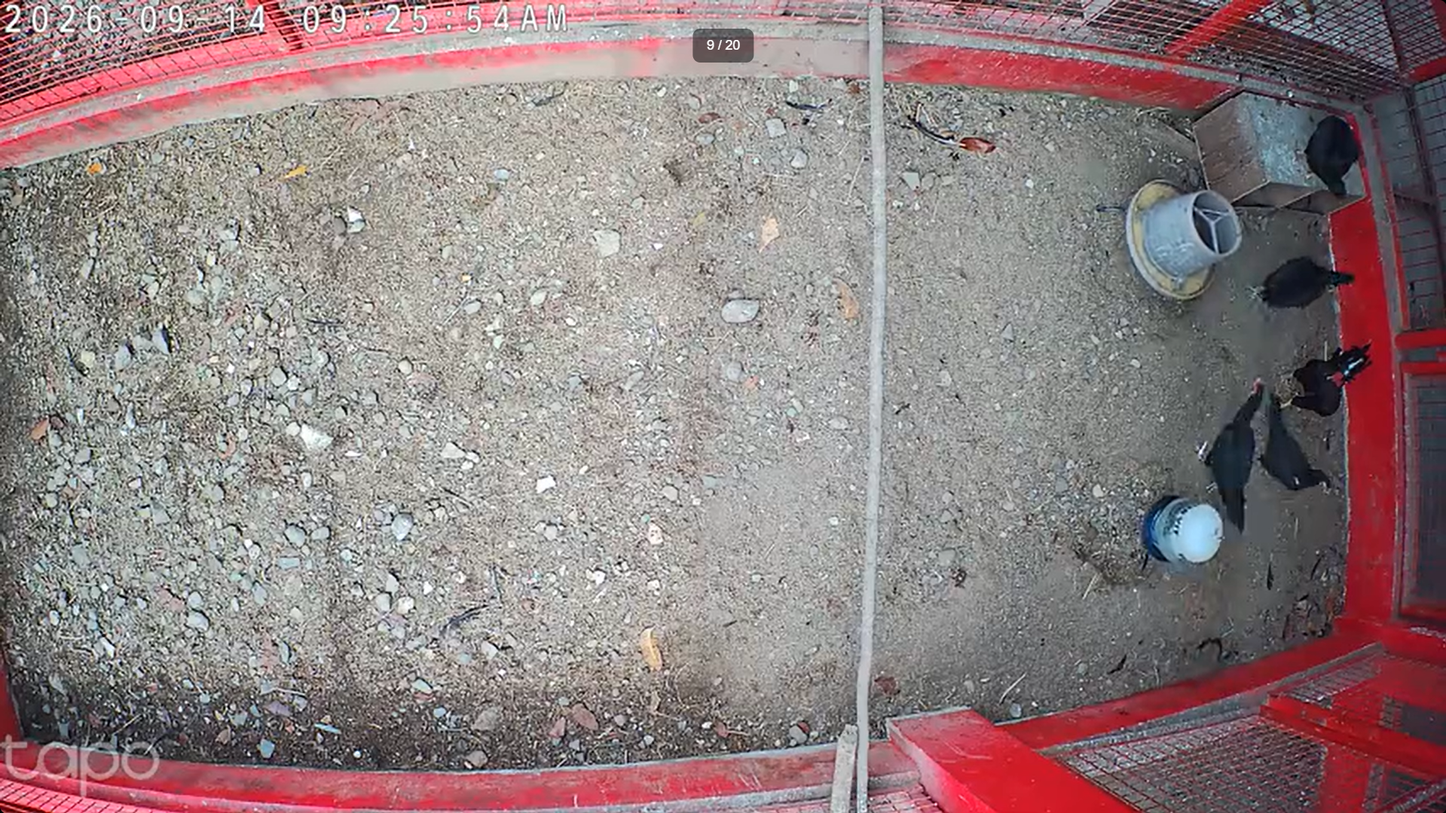Chicken: (1196, 374, 1265, 535), (1252, 388, 1335, 503), (1292, 115, 1367, 202)
Rooster: (1275, 339, 1378, 420)
